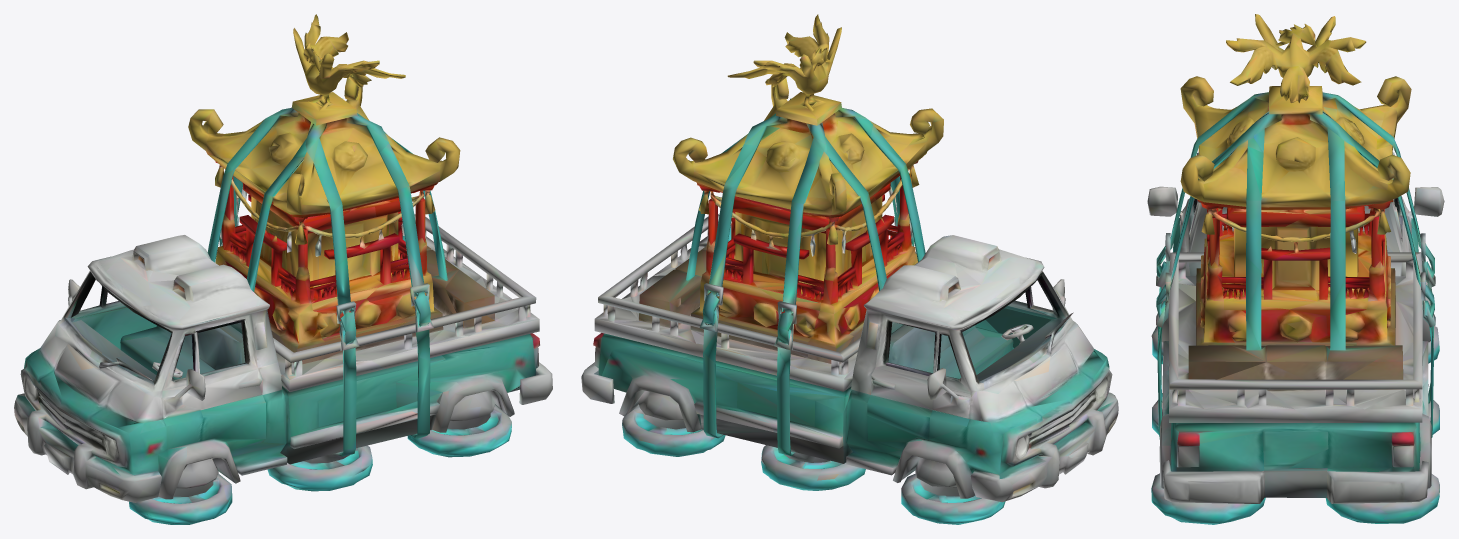
Rendered from prop_mile_payload.fbx.
3 renders of one model, left to right at view 1: azimuth 30°, elevation 25°; view 2: azimuth 150°, elevation 25°; view 3: azimuth 270°, elevation 25°, orthographic. The views are drawn at different scales.
Parts seen in each view (by area): view 1: tripo_node_c3025998-1b7b-405b-836b-7420dc763be7; view 2: tripo_node_c3025998-1b7b-405b-836b-7420dc763be7; view 3: tripo_node_c3025998-1b7b-405b-836b-7420dc763be7.
Boxes of the visible parts, left/top/right/bottom form: tripo_node_c3025998-1b7b-405b-836b-7420dc763be7: left=14, top=14, right=552, bottom=524; tripo_node_c3025998-1b7b-405b-836b-7420dc763be7: left=581, top=14, right=1118, bottom=524; tripo_node_c3025998-1b7b-405b-836b-7420dc763be7: left=1147, top=14, right=1444, bottom=524.
Size of the model in its own units: 0.9787 by 0.8336 by 0.5156.
